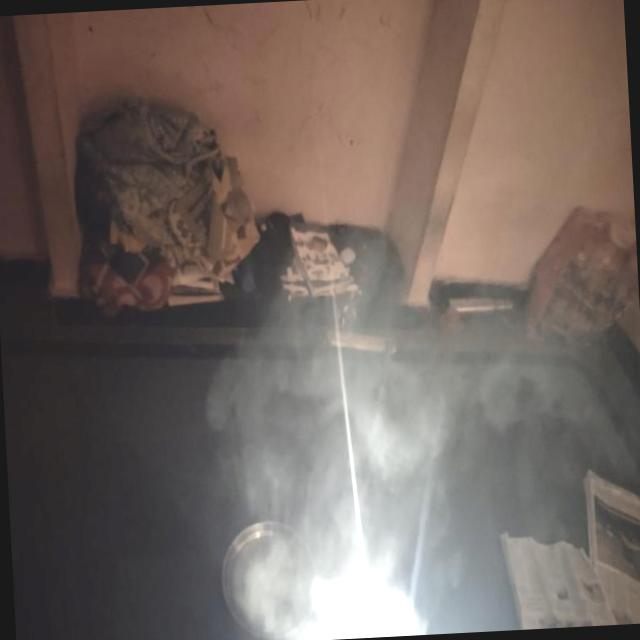smoke: (242, 414, 470, 640)
